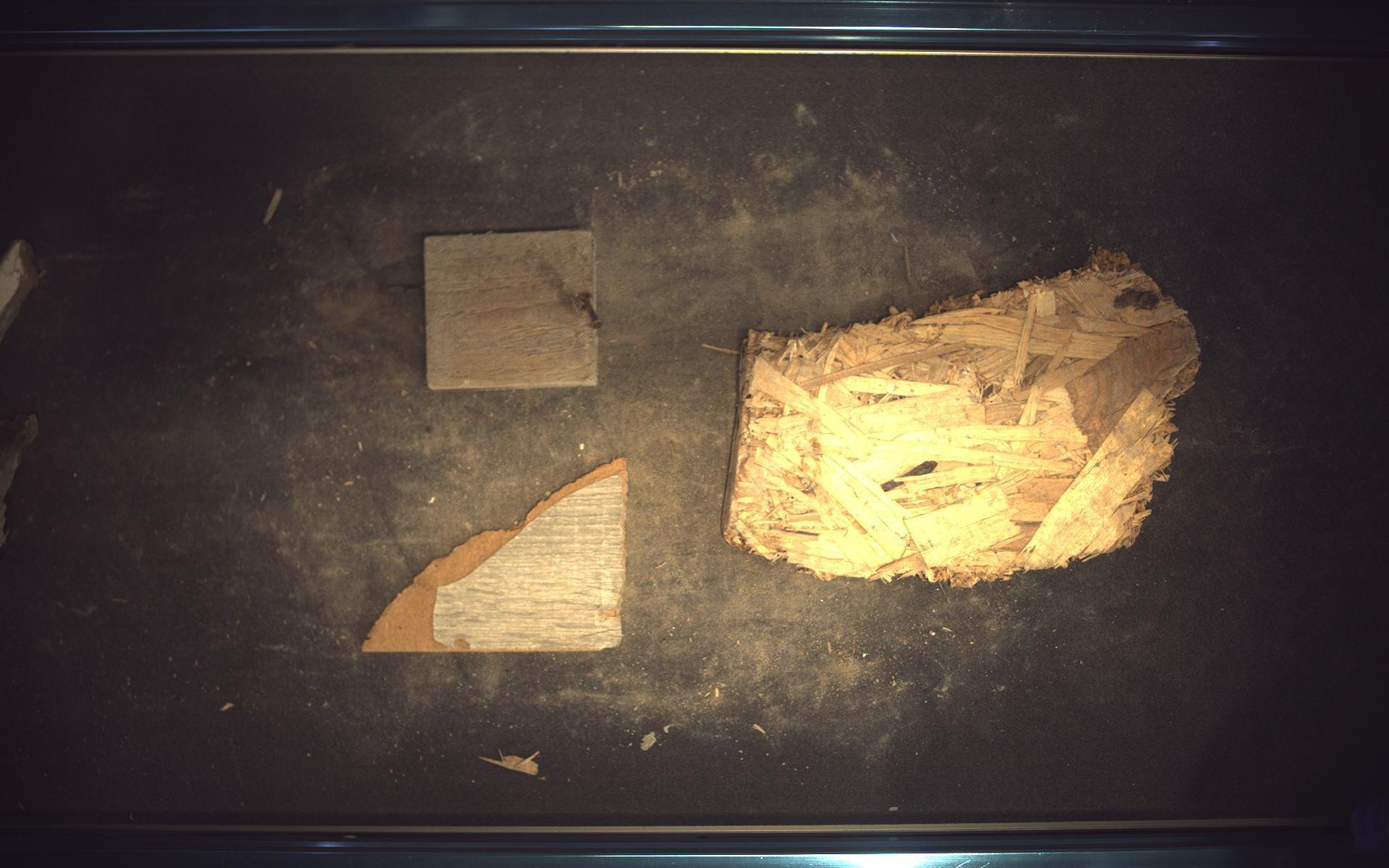wood: (725, 251, 1202, 586), (362, 459, 628, 653), (424, 229, 599, 389), (1, 414, 36, 547), (1, 239, 41, 339)
